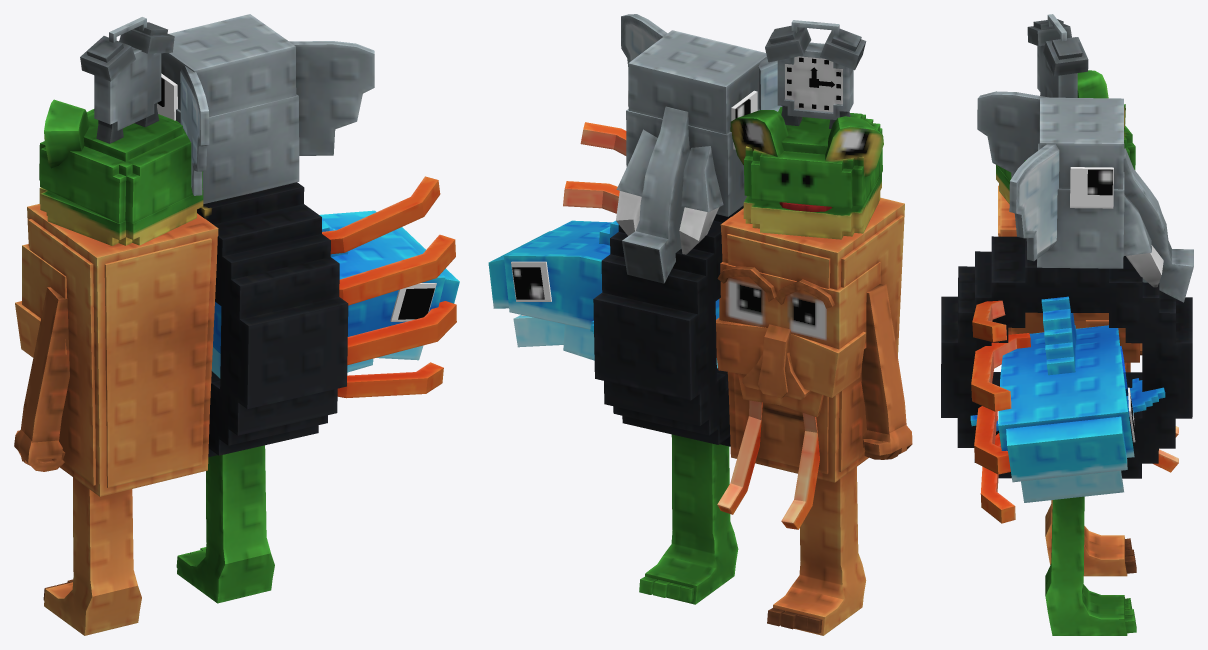
File: La Grande Combinasion.fbx
3 renders of one model, left to right at view 1: azimuth 30°, elevation 25°; view 2: azimuth 150°, elevation 25°; view 3: azimuth 270°, elevation 25°, orthographic. The views are drawn at different scales.
Visible parts, largest first — view 1: La Grande Combinasion; view 2: La Grande Combinasion; view 3: La Grande Combinasion.
Part boxes in pixels (x1,y1,x2,y2): La Grande Combinasion: (14,14,459,635); La Grande Combinasion: (488,14,912,635); La Grande Combinasion: (941,14,1193,635).
Bounding box in the file's own units: 602 × 848 × 354.
